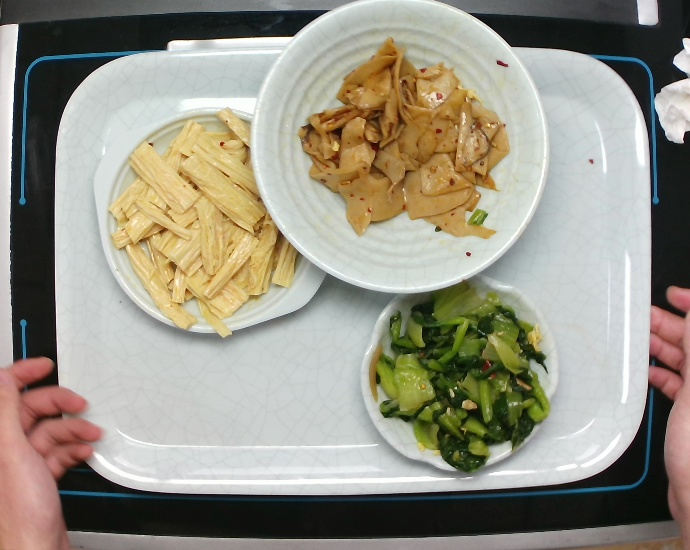JYsf-Ao_Yuan_Wan: (363, 277, 562, 471)
JYsf-Shuang_Er_Pan: (91, 111, 328, 338)
JYsf-Xiao_Tang_Wan: (249, 1, 551, 302)
